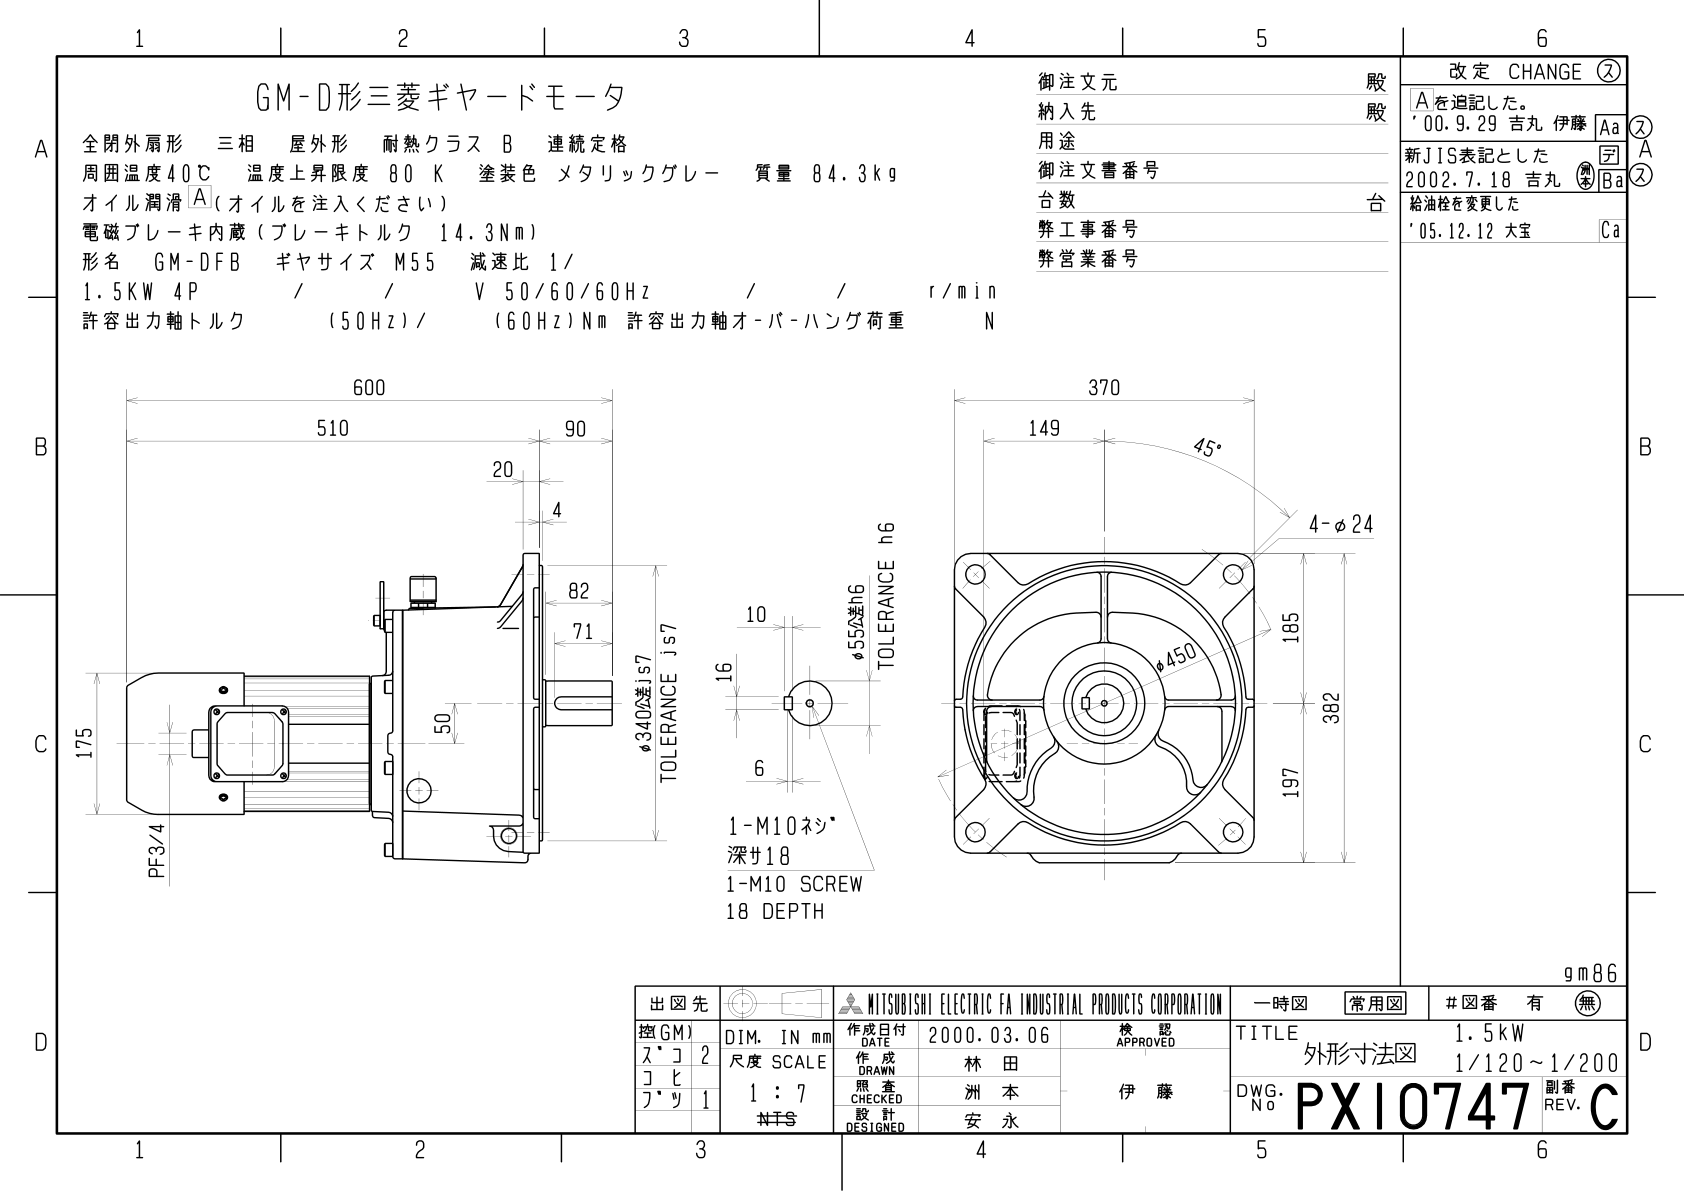GM_D_屋外＿三相_フランジ: (1, 1, 1678, 1173)
